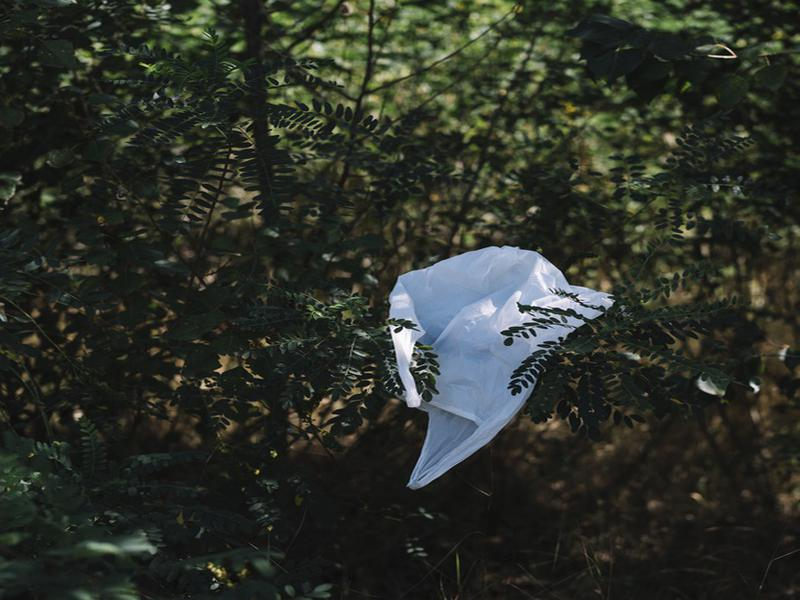plastic: (386, 223, 619, 496)
